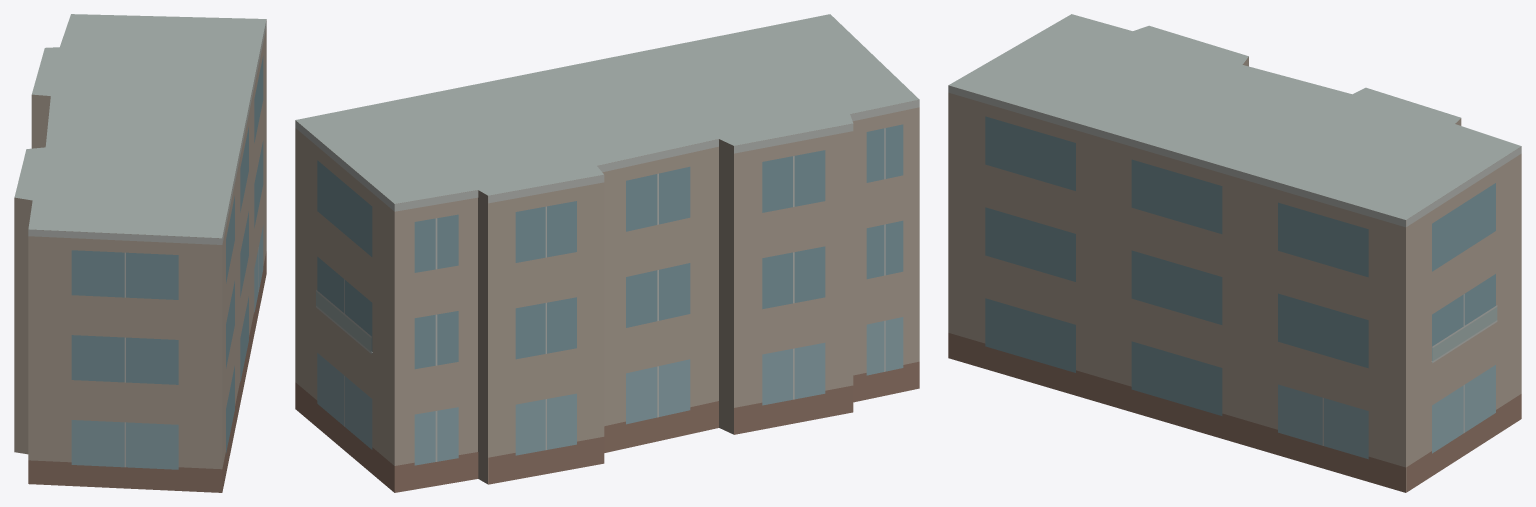
File: survey-upis-32714482.glb
3 views of the same model, side by side, from view 1: azimuth 30°, elevation 25°; view 2: azimuth 150°, elevation 25°; view 3: azimuth 270°, elevation 25° (orthographic). The views are drawn at different scales.
Parts seen in each view (by area): view 1: survey-upis-32714482.tmp; view 2: survey-upis-32714482.tmp; view 3: survey-upis-32714482.tmp.
Part boxes in pixels (box(x1,y1,x2,y2)): survey-upis-32714482.tmp: box(14, 14, 266, 492); survey-upis-32714482.tmp: box(295, 14, 919, 492); survey-upis-32714482.tmp: box(948, 14, 1521, 492).
Size of the model in its own units: 14.84 by 9.15 by 17.44.
